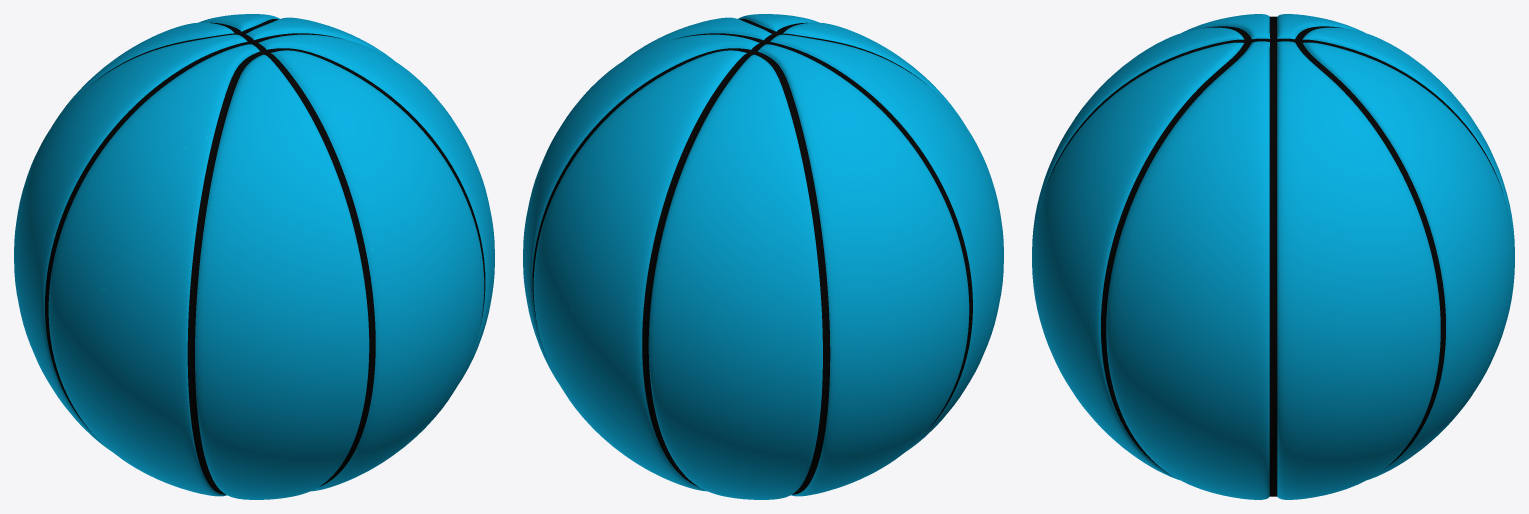
The model's file is item6.fbx.
3 renders of one model, left to right at view 1: azimuth 30°, elevation 25°; view 2: azimuth 150°, elevation 25°; view 3: azimuth 270°, elevation 25°, orthographic.
Parts seen in each view (by area): view 1: Item0.012; view 2: Item0.012; view 3: Item0.012.
Part boxes in pixels (x1=…): Item0.012: x1=14, y1=14, x2=494, y2=499; Item0.012: x1=523, y1=14, x2=1003, y2=499; Item0.012: x1=1032, y1=14, x2=1514, y2=499.
Size of the model in its own units: 193 by 194 by 193.
Materials: 1 (1 with a texture image).
